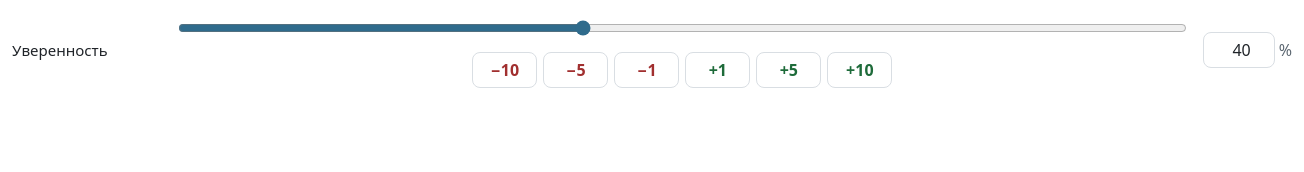
it: IntensityControl › ignores non numeric input
Replace the text in the number field named "Значение: Уверенность" with "abc" at (1239, 50), box [1203, 32, 1275, 68]
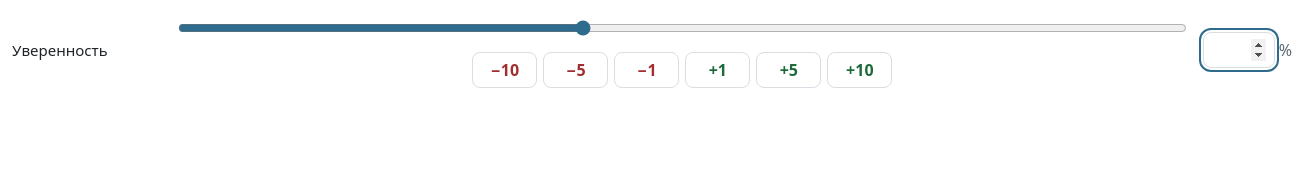
Press Tab
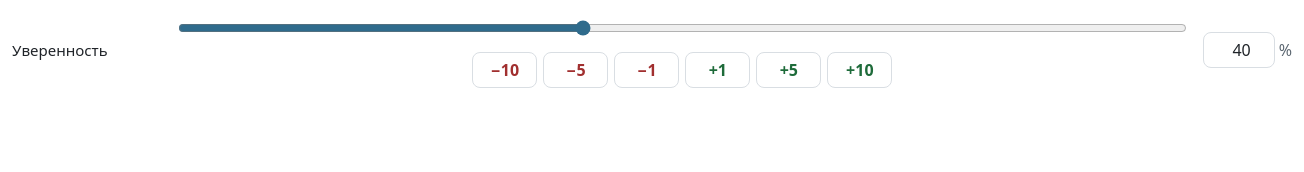
Expected: the number field named "Значение: Уверенность" holds "40", [1203, 32, 1275, 68]
